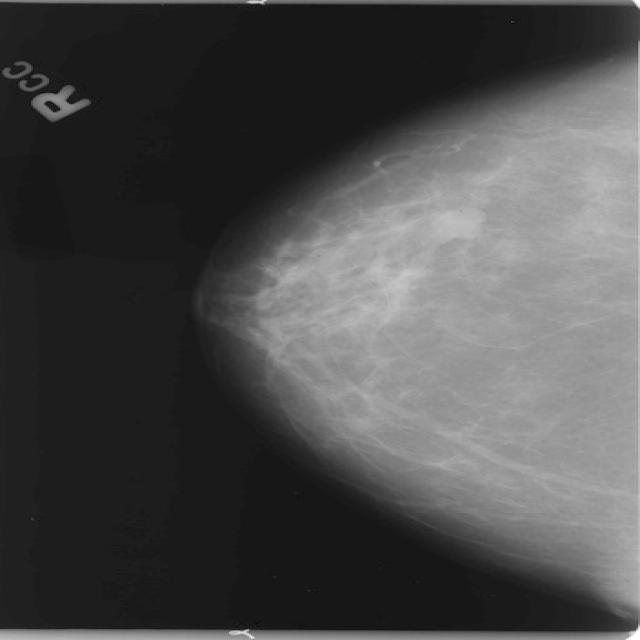tumour: (433, 208, 485, 238)
